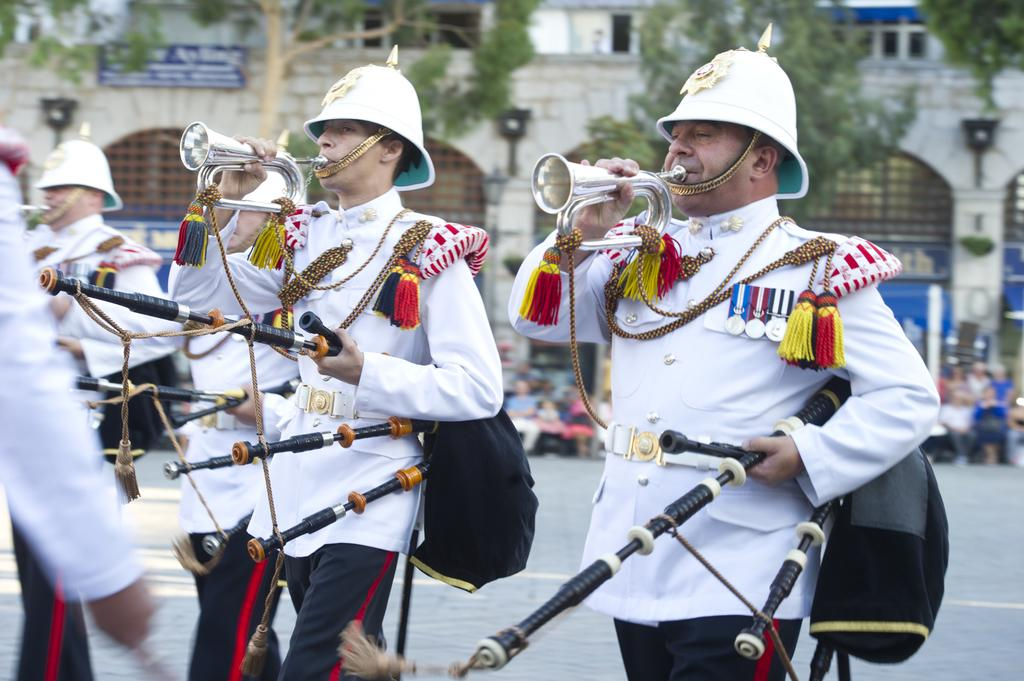Hat: (660, 24, 808, 200), (304, 42, 435, 194), (27, 114, 121, 227)
